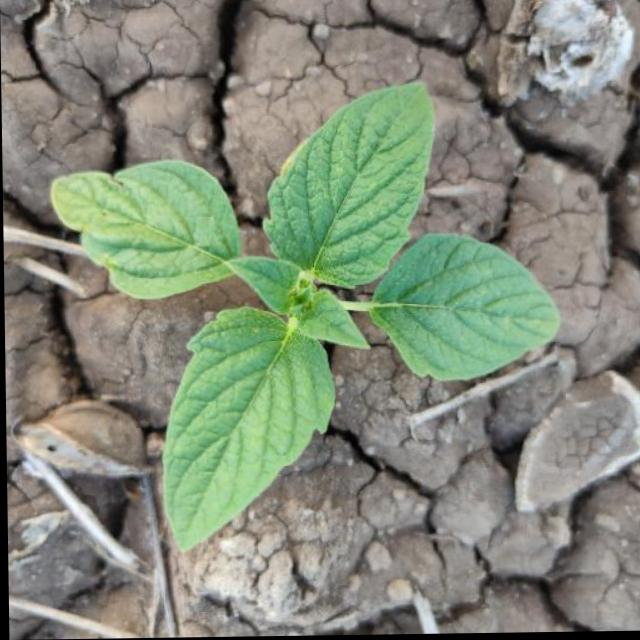crop: (46, 86, 576, 536)
